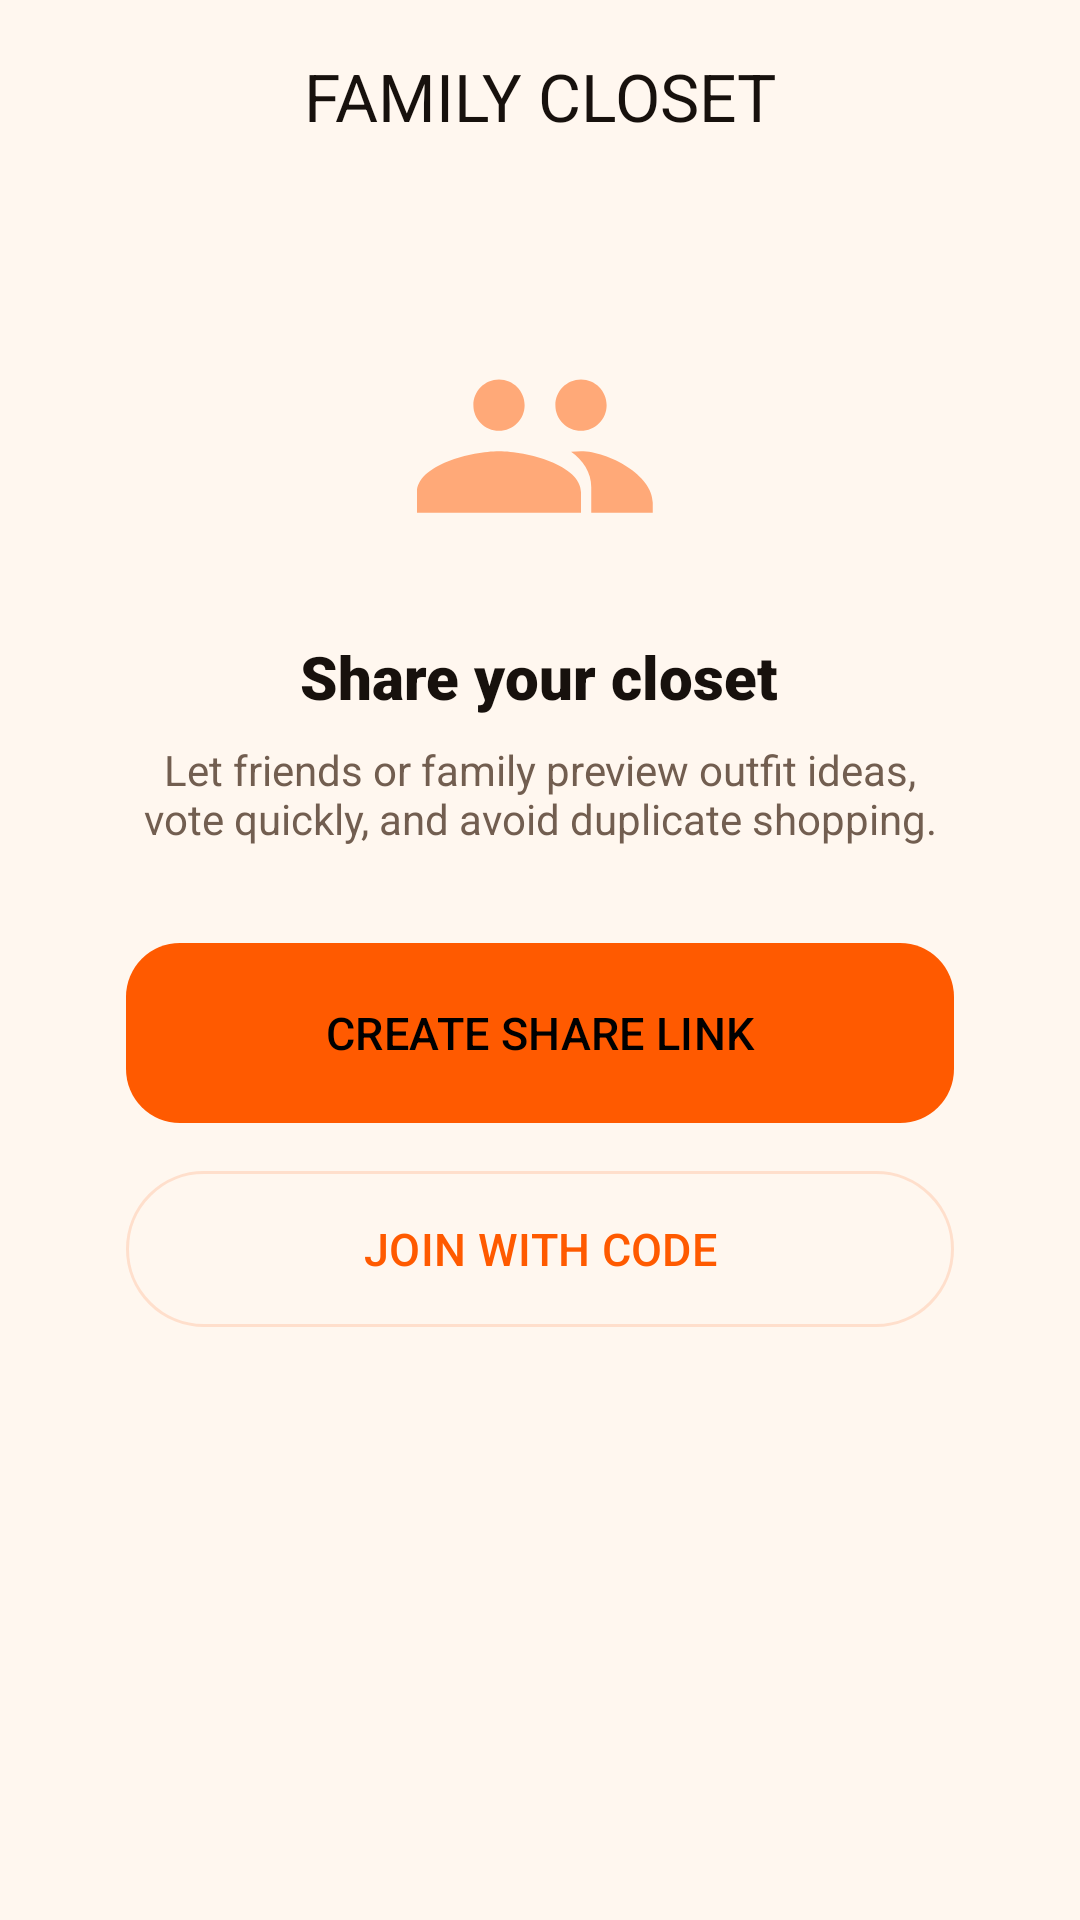

Where icons sit on this 1080 × 1920 app screen, as (x1,y1,x2,y2):
family empty: (417,379,653,513)
